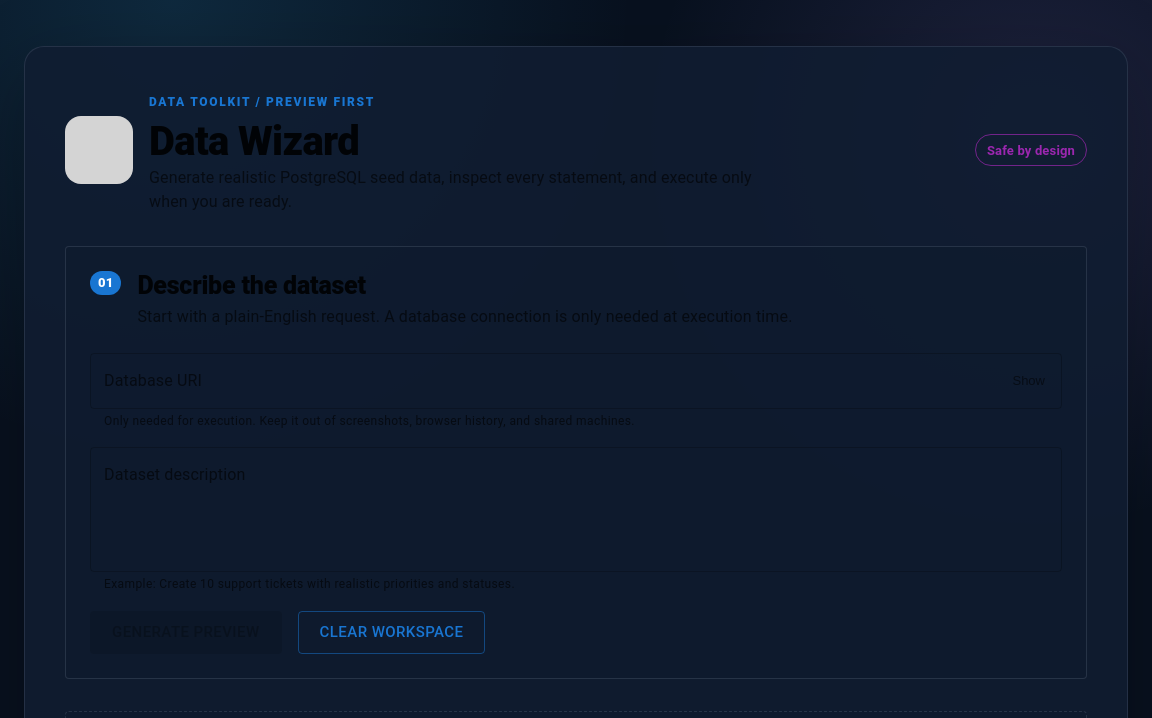
DataRequest › bounds large row previews and explains truncation
Type "Create many rows" into the text box labelled "Dataset description" at (576, 510), box [104, 464, 1048, 556]
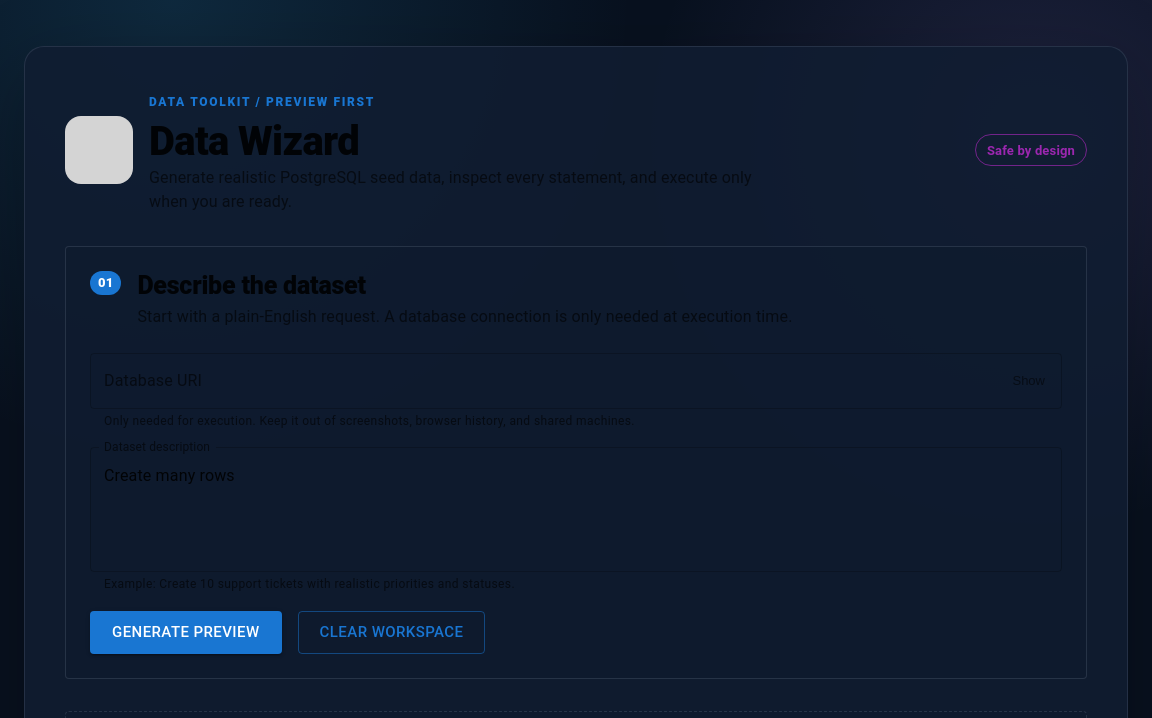
Click the button "Generate preview" at (186, 633), box [90, 611, 282, 654]
(page scrolled)
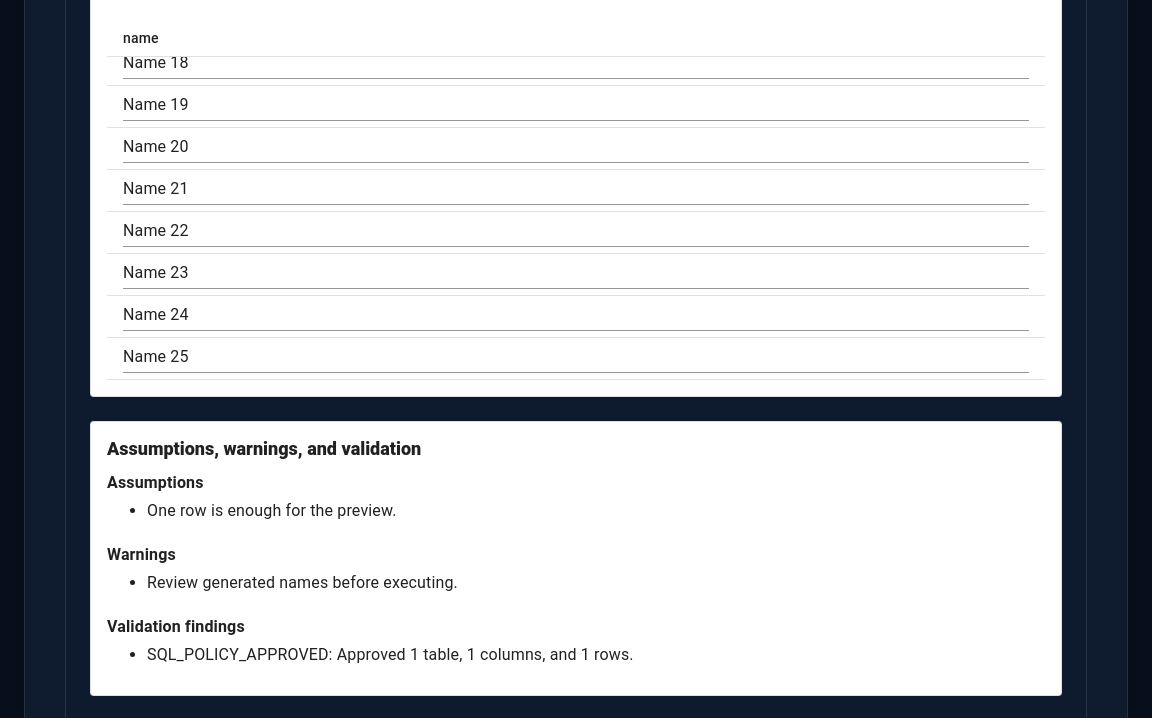
expect the field named "Row 25 name" is shown: met, box [123, 344, 1029, 373]
